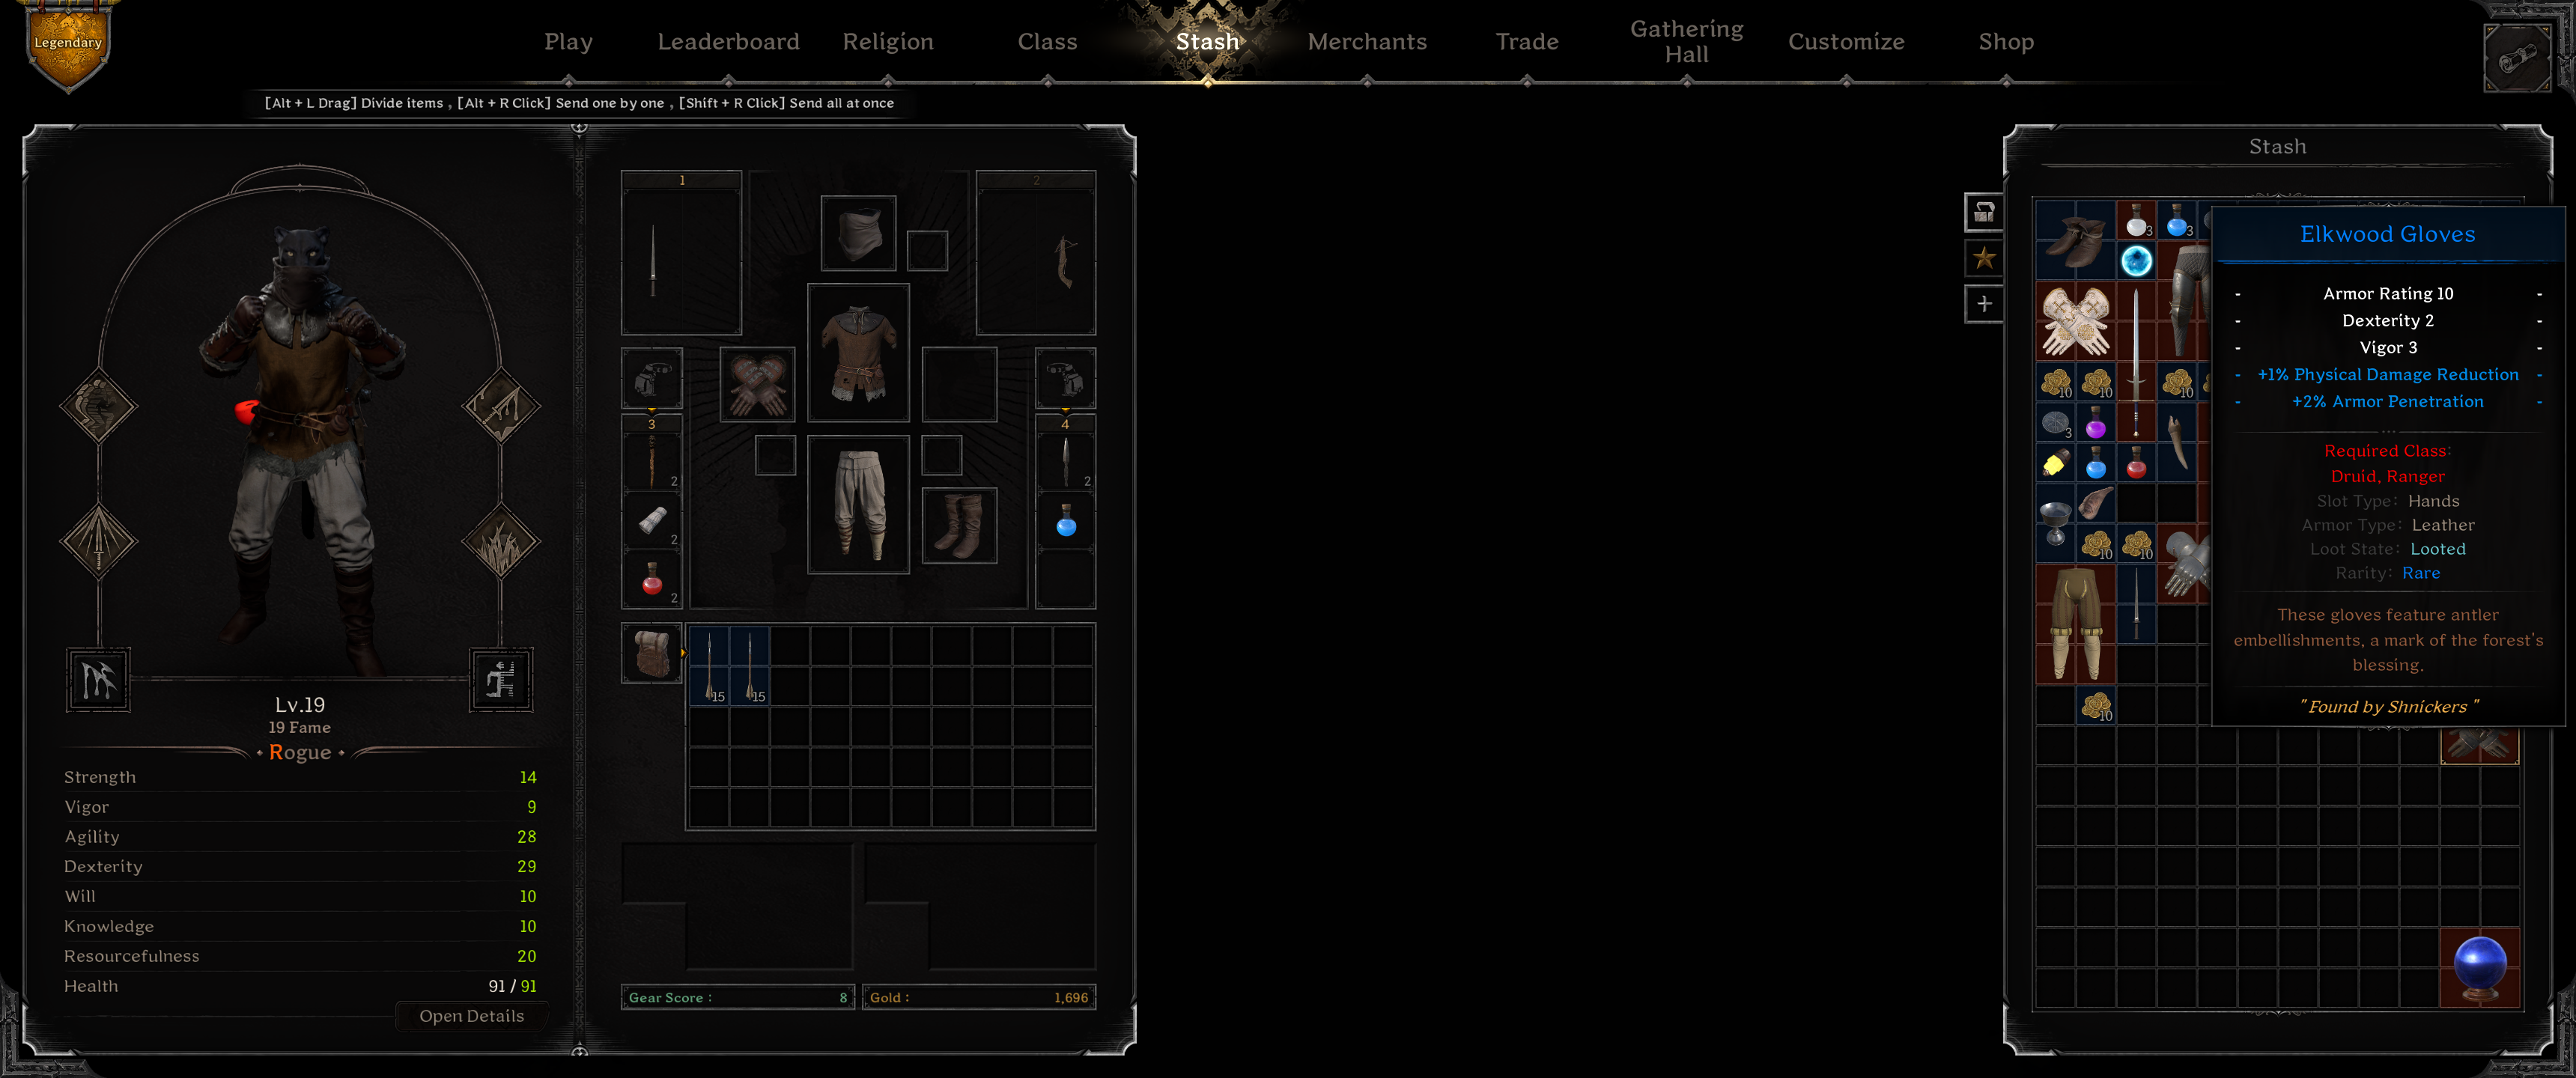Tooltip: (2210, 204, 2568, 728)
